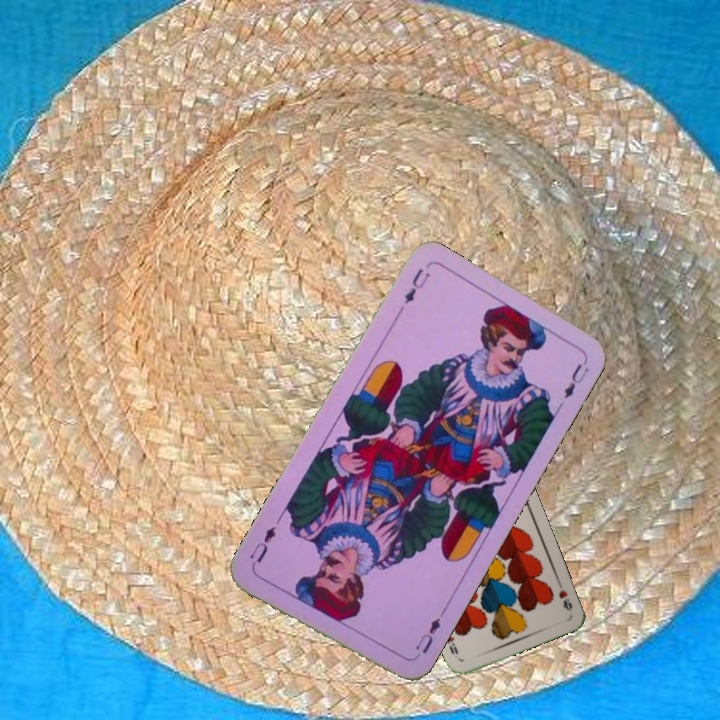EU: (400, 264, 433, 307), (411, 613, 443, 656)
H9: (553, 576, 575, 613)
